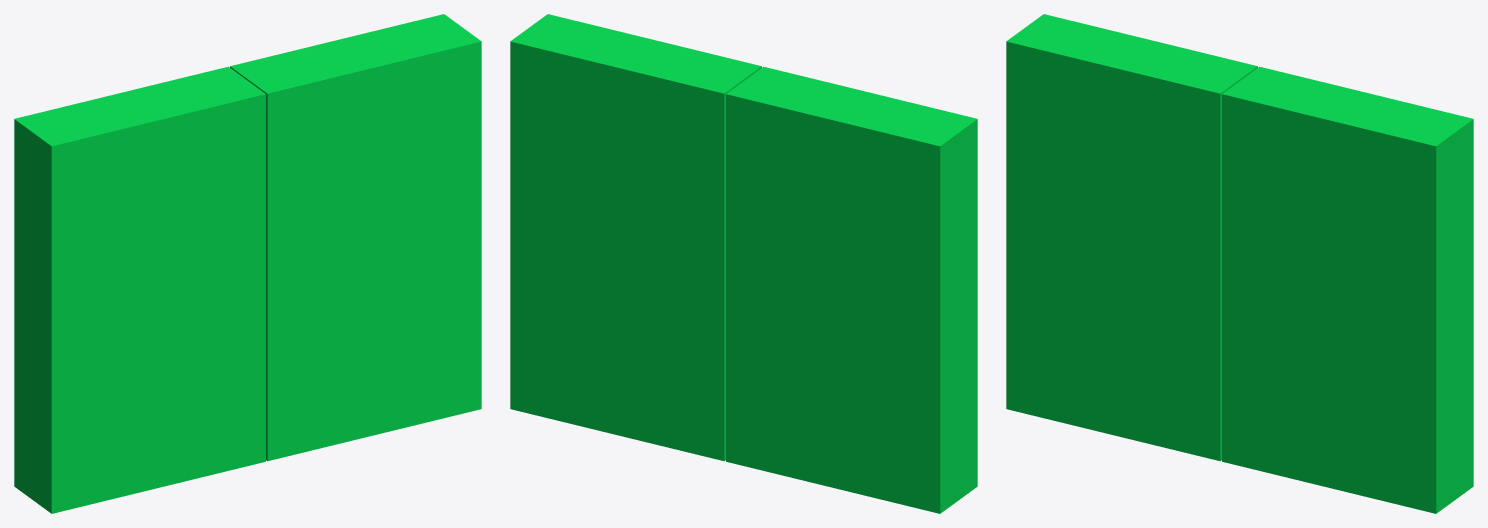
File: Solid Doors.fbx
The picture shows the model from 3 angles, left to right: view 1: azimuth 30°, elevation 25°; view 2: azimuth 150°, elevation 25°; view 3: azimuth 330°, elevation 25°; orthographic projection.
Visible parts, largest first — view 1: Cube.060, Cube.059; view 2: Cube.060, Cube.059; view 3: Cube.059, Cube.060.
Boxes of the visible parts, x1=… form: Cube.060: x1=14, y1=66, x2=265, y2=513; Cube.059: x1=230, y1=14, x2=481, y2=461; Cube.060: x1=726, y1=66, x2=977, y2=513; Cube.059: x1=510, y1=14, x2=761, y2=461; Cube.059: x1=1222, y1=66, x2=1473, y2=513; Cube.060: x1=1006, y1=14, x2=1257, y2=461.
Size of the model in its own units: 544 by 445 by 82.4.
